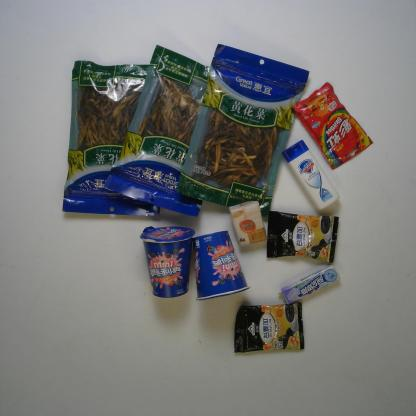Candy: (290, 80, 375, 172), (275, 262, 343, 306)
Dessert: (190, 228, 252, 302), (137, 224, 197, 300)
Dried Food: (174, 42, 310, 219), (102, 43, 212, 220), (60, 59, 162, 218)
Instant Drink: (263, 209, 340, 265), (232, 300, 306, 354)
Personal Hygiene: (279, 138, 342, 213)
Tissue: (226, 198, 269, 249)
